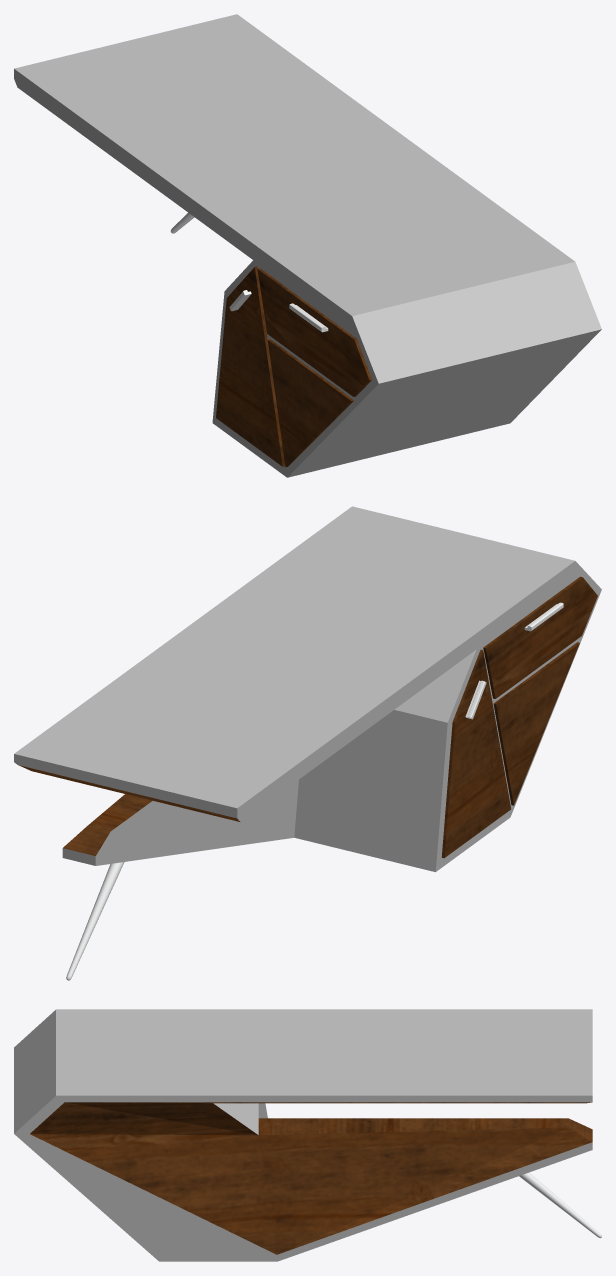
The model's file is office_desk.glb.
The picture shows the model from 3 angles, top to bottom: view 1: azimuth 30°, elevation 25°; view 2: azimuth 150°, elevation 25°; view 3: azimuth 270°, elevation 25°; orthographic projection. The views are drawn at different scales.
Parts seen in each view (by area): view 1: scrivania_0, casetti_1; view 2: scrivania_0, casetti_1, appogio terra_2, maniglie_3; view 3: scrivania_0, appogio terra_2.
Part boxes in pixels (<box>): scrivania_0: <box>14,14,601,477</box>; casetti_1: <box>216,266,371,467</box>; scrivania_0: <box>14,506,601,872</box>; casetti_1: <box>441,576,597,858</box>; appogio terra_2: <box>66,862,124,980</box>; maniglie_3: <box>465,602,563,719</box>; scrivania_0: <box>14,1009,592,1261</box>; appogio terra_2: <box>519,1172,601,1238</box>.
Bounding box in the file's own units: 1.11 × 0.9568 × 3.07.
3 materials, 3 textured.
